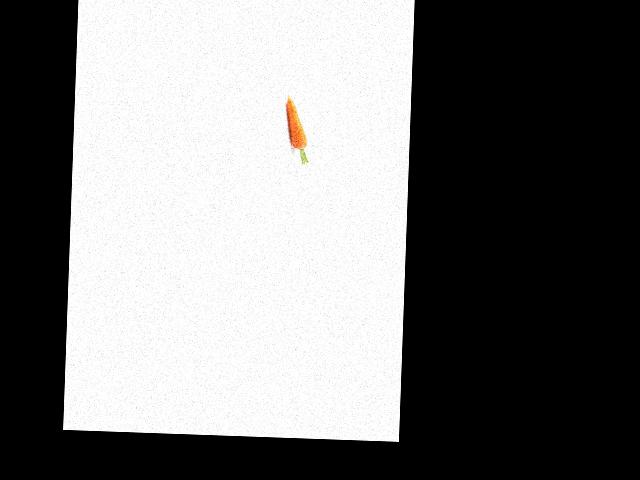carrot: (279, 92, 315, 155)
